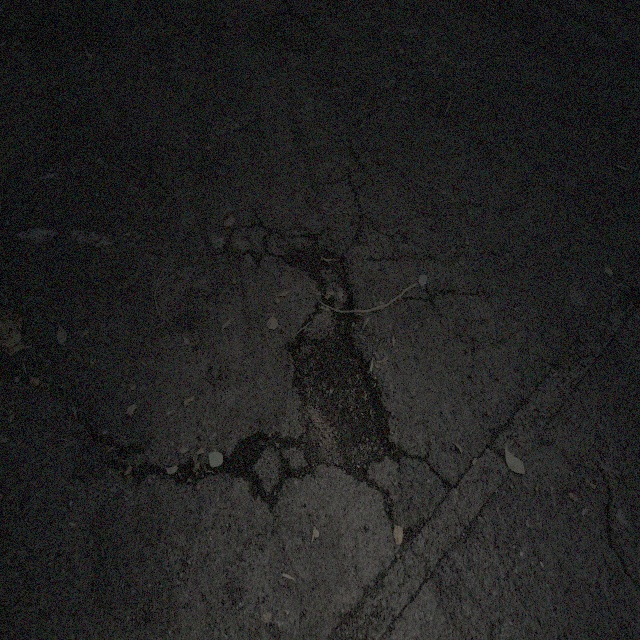pothole: (276, 240, 398, 487)
